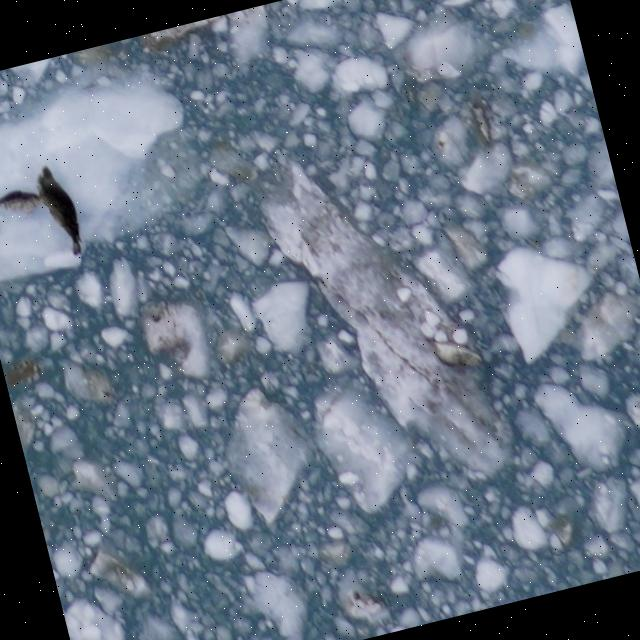seal: (29, 157, 87, 262), (418, 317, 490, 386), (0, 183, 50, 223)
